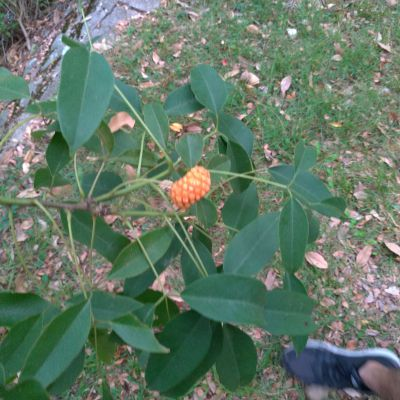eggs: (166, 165, 215, 208)
